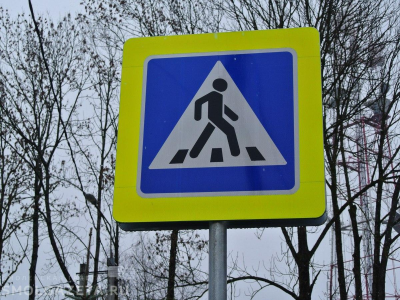crosswalk: (147, 57, 295, 191)
